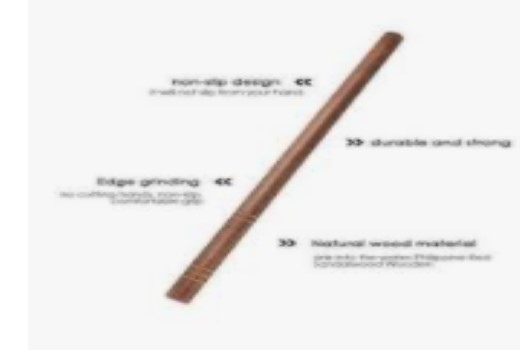baston_e: (170, 46, 400, 272)
baston_v: (156, 272, 194, 316), (374, 17, 410, 54)
